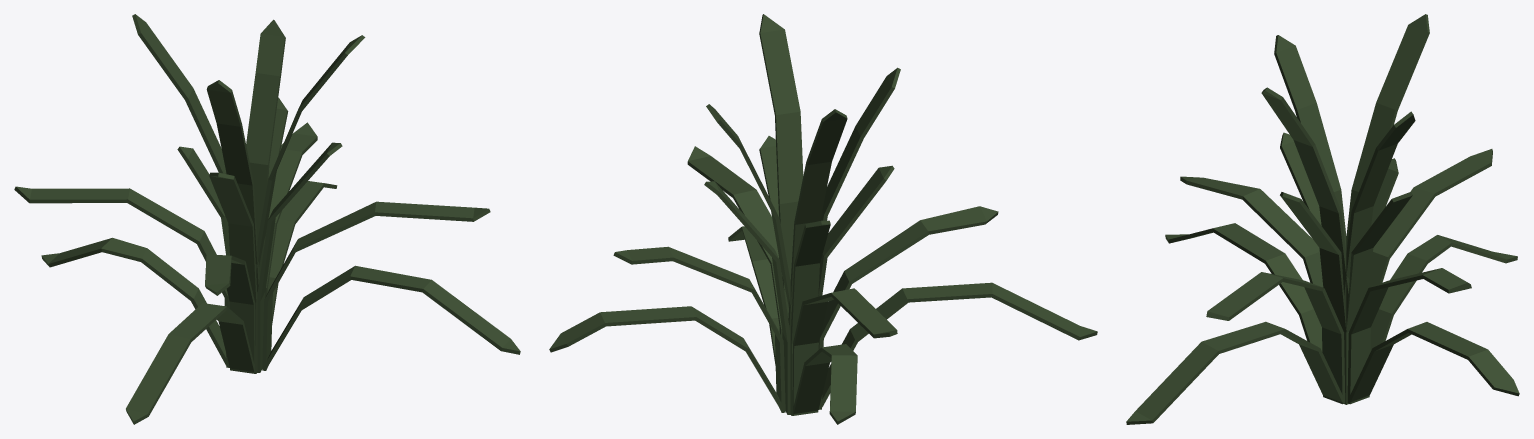
3 views of the same model, side by side, from view 1: azimuth 30°, elevation 25°; view 2: azimuth 150°, elevation 25°; view 3: azimuth 270°, elevation 25° (orthographic).
Parts seen in each view (by area): view 1: Plant_3; view 2: Plant_3; view 3: Plant_3.
Boxes of the visible parts, box(x1,y1,x2,y2) form: Plant_3: box(14, 14, 520, 424); Plant_3: box(549, 14, 1097, 424); Plant_3: box(1126, 14, 1519, 424).
Size of the model in its own units: 1.09 by 0.9437 by 0.9724.
